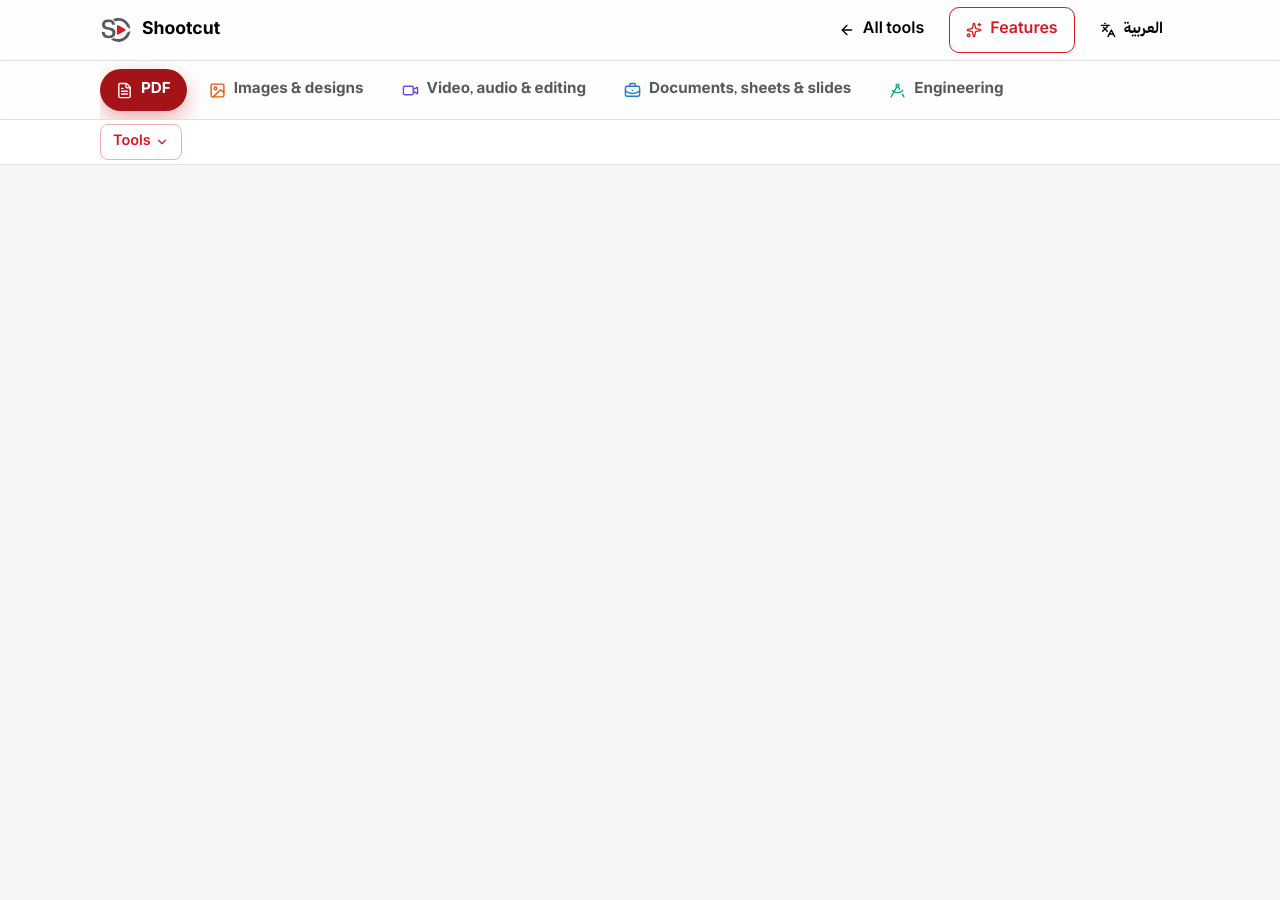
it: tool bar › has two menus at most: the tools and the full programs of the section
Click the button "Tools". click: (141, 142)
box: left=100, top=124, right=182, bottom=160
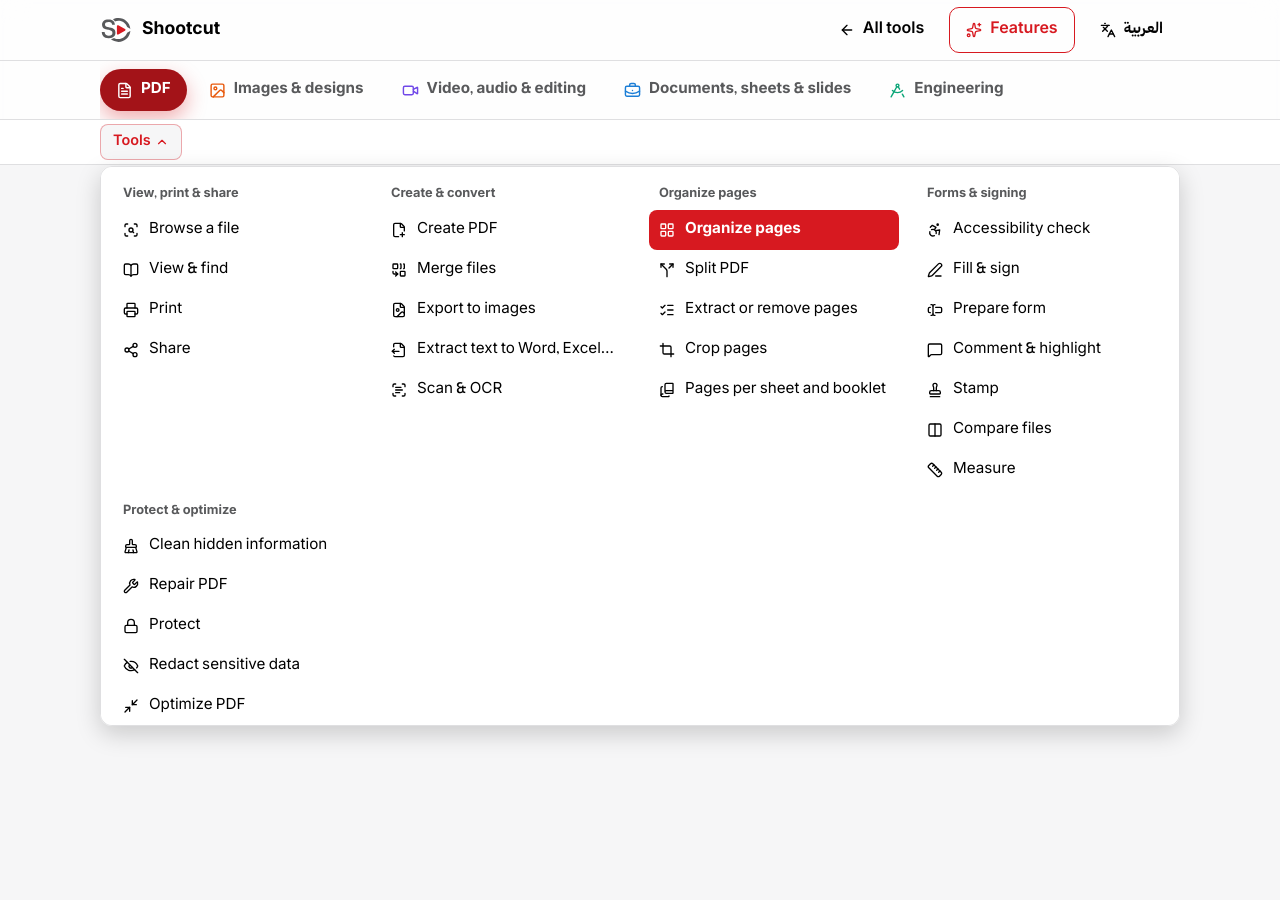
Now the button "Tools" is expanded, box left=100, top=124, right=182, bottom=160
Now the menu item "Organize pages" is shown, box left=649, top=210, right=899, bottom=250
Now the menu item to "#/merge" is shown, box left=391, top=258, right=496, bottom=281
